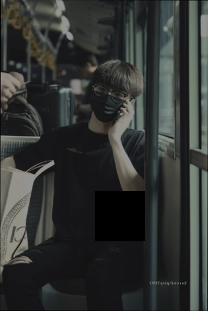with_mask: (89, 81, 131, 123)
